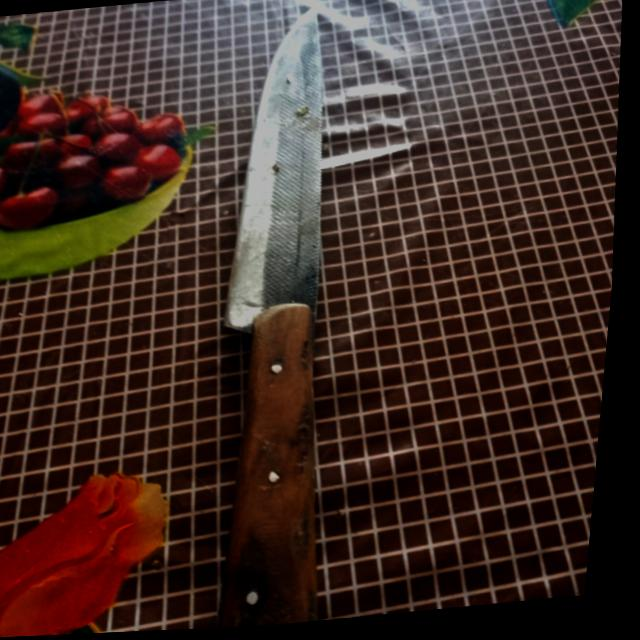Knife: (218, 12, 322, 627)
